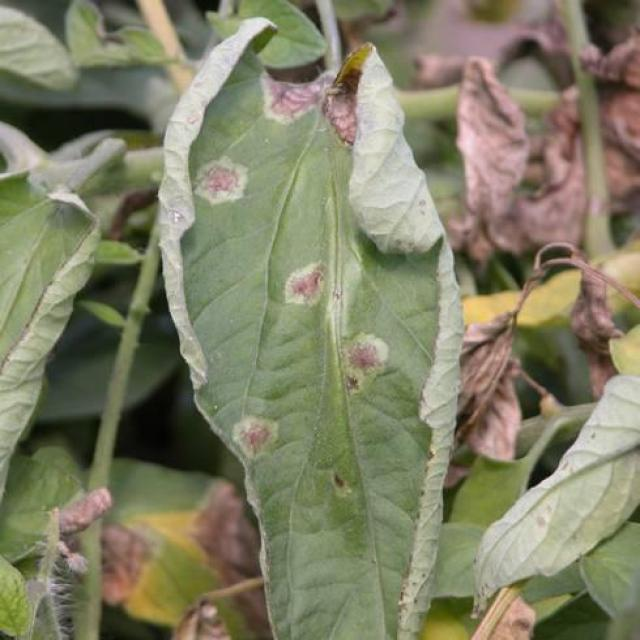Late Blight: (144, 7, 472, 638)
